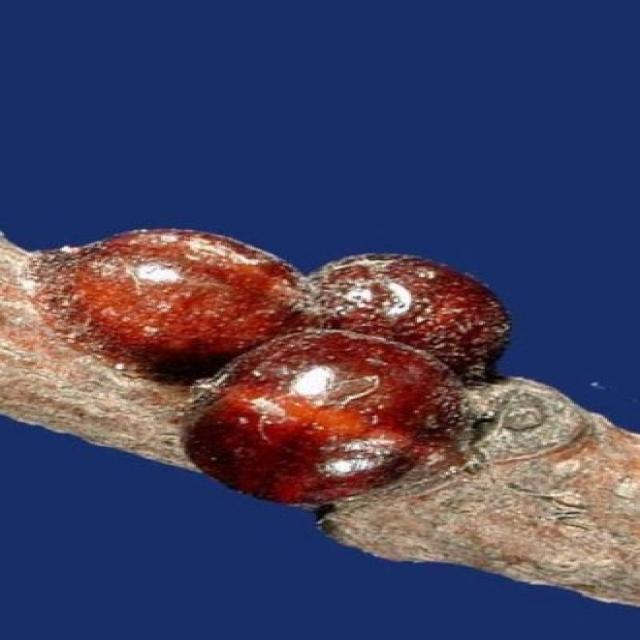BlackScale: (37, 230, 508, 504)
